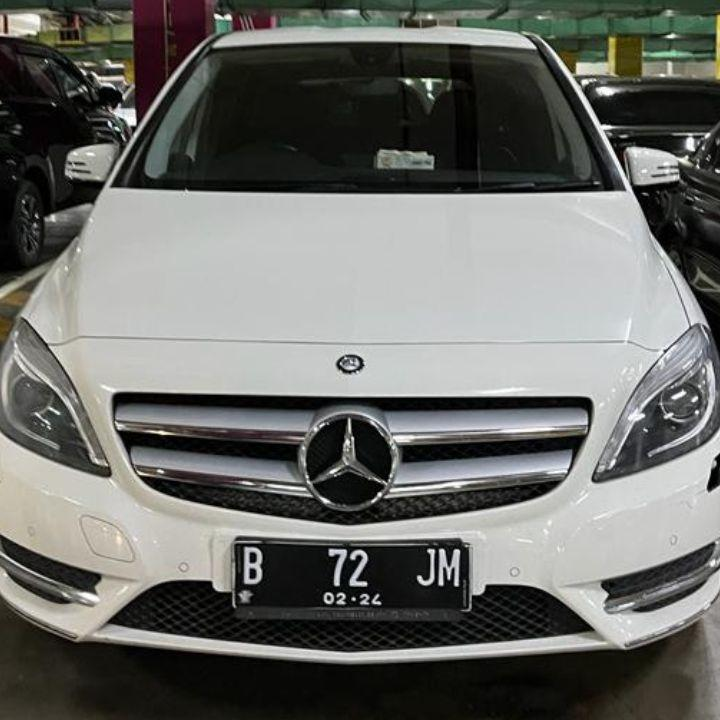plat: (237, 541, 469, 606)
